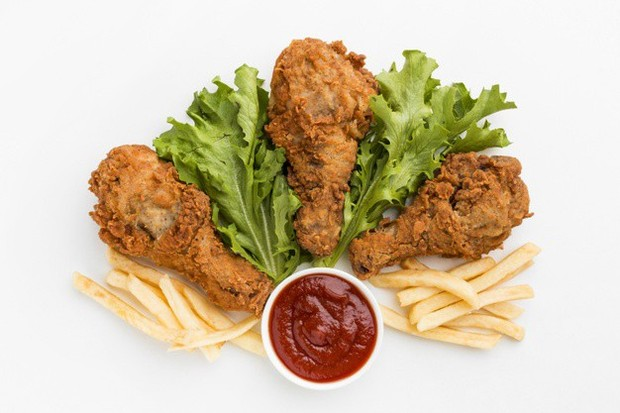Ayam: (47, 140, 265, 329), (342, 145, 548, 283), (278, 16, 384, 262)
